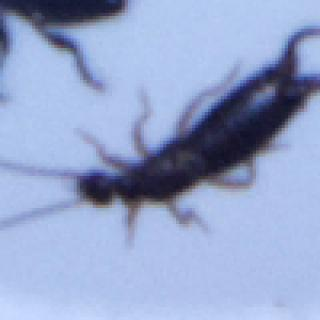earwig: (0, 26, 320, 250)
